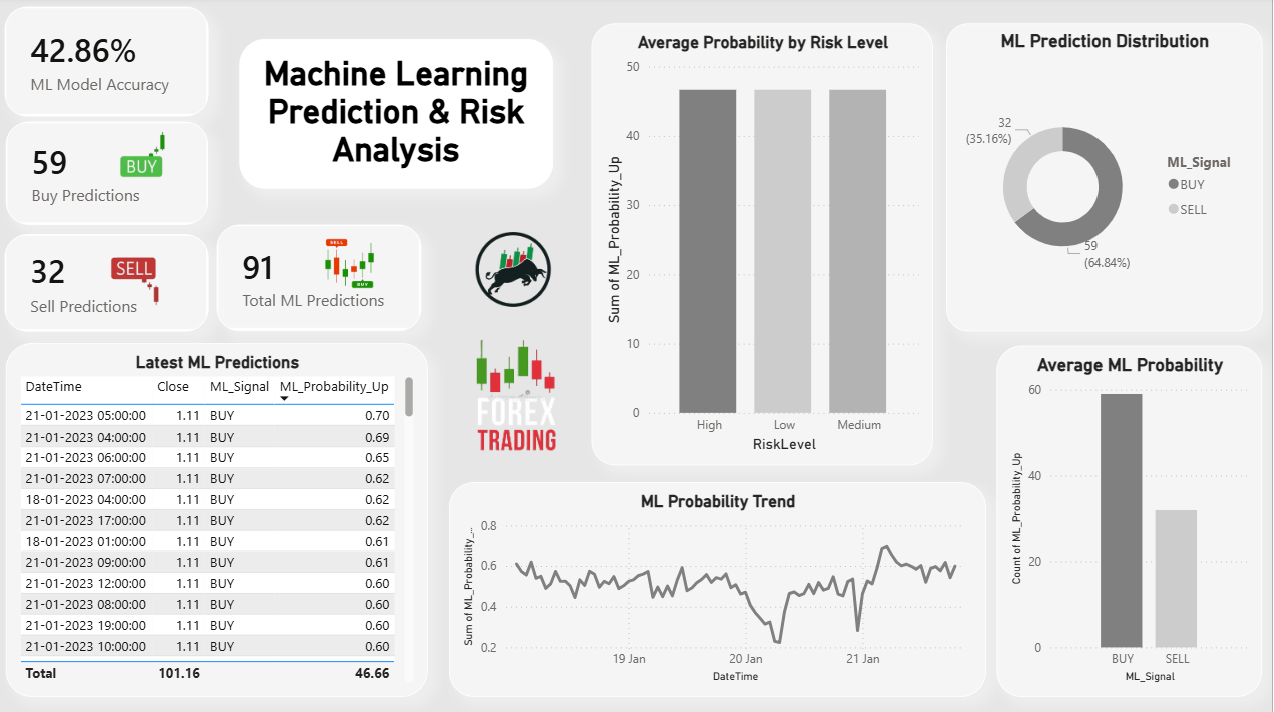

The dashboard page shown, as its layout file describes it:
{"tool":"powerbi","page":{"name":"Machine Learning Prediction & Risk Analysis","canvas":[1280,720],"ordinal":3},"visuals":[{"type":"cardVisual","fields":{"Data":["forex_ml_predictions.ML Accuracy"]},"box":[9.6,9.6,204.3,110.5],"z":0},{"type":"cardVisual","fields":{"Data":["CountNonNull(forex_ml_predictions.ML_Prediction)"]},"box":[222.3,228.3,205.5,106.9],"z":1000},{"type":"cardVisual","fields":{"Data":["Sum(forex_ml_predictions.ML_Prediction)"]},"box":[10.8,125,203.1,103.3],"z":2000},{"type":"cardVisual","fields":{"Data":["CountNonNull(forex_ml_predictions.ML_Prediction)"]},"box":[9.6,237.9,204.3,97.3],"z":3000},{"type":"donutChart","title":"ML Prediction Distribution","fields":{"Category":["forex_ml_predictions.ML_Signal"],"Y":["CountNonNull(forex_ml_predictions.ML_Signal)"]},"box":[954,26.4,316,308.8],"z":4000},{"type":"clusteredColumnChart","title":"Average ML Probability","fields":{"Category":["forex_ml_predictions.ML_Signal"],"Y":["CountNonNull(forex_ml_predictions.ML_Probability_Up)1"]},"box":[1004.5,349.6,265.5,352.1],"z":5000},{"type":"clusteredColumnChart","title":"Average Probability by Risk Level","fields":{"Category":["forex_powerbi_master.RiskLevel"],"Y":["Sum(forex_ml_predictions.ML_Probability_Up)"]},"box":[598.4,26.4,342.4,443.4],"z":5001},{"type":"lineChart","title":"ML Probability Trend","fields":{"Y":["Sum(forex_ml_predictions.ML_Probability_Up)"],"Category":["forex_ml_predictions.DateTime"]},"box":[455.4,486.6,538.3,215.1],"z":5002},{"type":"tableEx","title":"Latest ML Predictions","fields":{"Values":["forex_ml_predictions.DateTime","Sum(forex_ml_predictions.Close)","forex_ml_predictions.ML_Signal","Sum(forex_ml_predictions.ML_Probability_Up)"]},"box":[10.8,347.2,422.9,354.5],"z":5003},{"type":"textbox","box":[245.1,42.1,314.8,150.2],"z":5004},{"type":"image","box":[413.3,335.2,213.9,131],"z":5005},{"type":"image","box":[102.1,129.8,93.7,62.5],"z":5006},{"type":"image","box":[69.7,248.7,144.2,67.3],"z":5007},{"type":"image","box":[307.6,237.9,94.9,60.1],"z":5008},{"type":"image","box":[474.6,230.7,91.3,85.3],"z":5009}]}

Visuals, with their boxes in screenshot pixels (x1, y1, x2, y2), scaled from the page's 1280x720 canvas onto the 1274x712 screenshot:
cardVisual - forex_ml_predictions.ML Accuracy: region(10, 9, 213, 119)
cardVisual - CountNonNull(forex_ml_predictions.ML_Prediction): region(221, 226, 426, 331)
cardVisual - Sum(forex_ml_predictions.ML_Prediction): region(11, 124, 213, 226)
cardVisual - CountNonNull(forex_ml_predictions.ML_Prediction): region(10, 235, 213, 331)
"ML Prediction Distribution" donutChart: region(950, 26, 1264, 331)
"Average ML Probability" clusteredColumnChart: region(1000, 346, 1264, 694)
"Average Probability by Risk Level" clusteredColumnChart: region(596, 26, 936, 465)
"ML Probability Trend" lineChart: region(453, 481, 989, 694)
"Latest ML Predictions" tableEx: region(11, 343, 432, 694)
textbox: region(244, 42, 557, 190)
image: region(411, 331, 624, 461)
image: region(102, 128, 195, 190)
image: region(69, 246, 213, 312)
image: region(306, 235, 401, 295)
image: region(472, 228, 563, 312)
